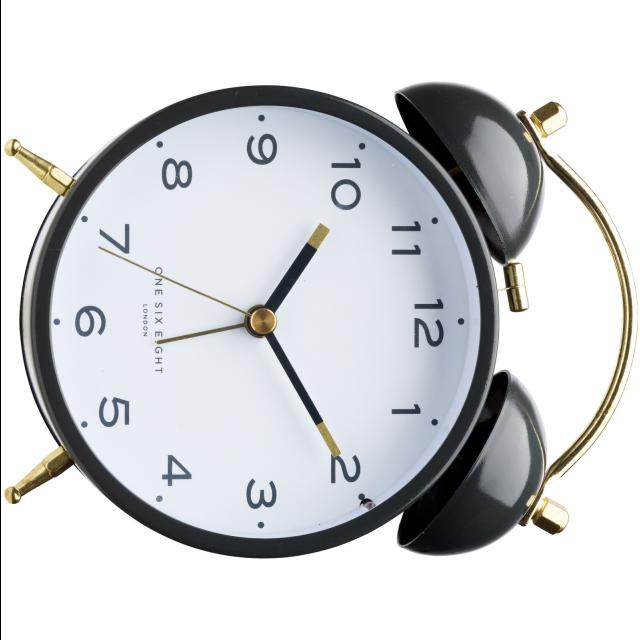clock: (8, 8, 640, 640)
